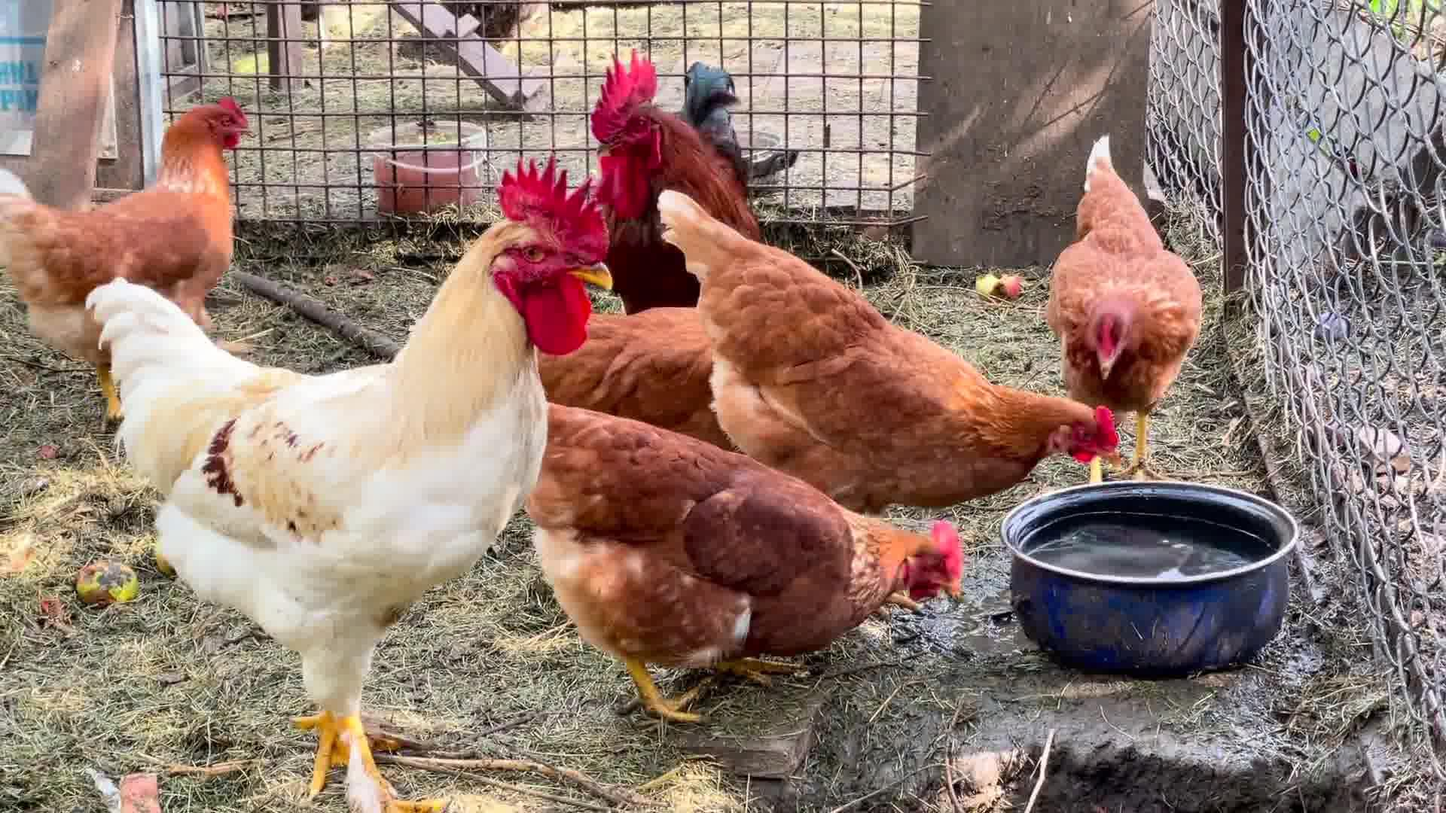Normal: (91, 149, 614, 813), (652, 175, 1150, 536), (545, 397, 968, 717), (0, 85, 259, 413), (546, 49, 796, 310), (1030, 130, 1203, 482)
